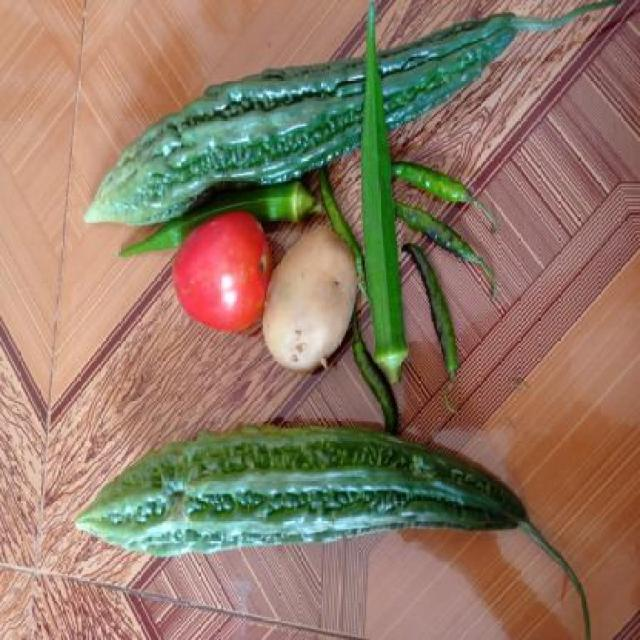Bitter melon: (75, 419, 551, 558)
Green Chili: (414, 246, 464, 383)
Lady finger: (362, 19, 416, 378)
Potato: (260, 234, 362, 377)
Tomato: (172, 212, 271, 332)
